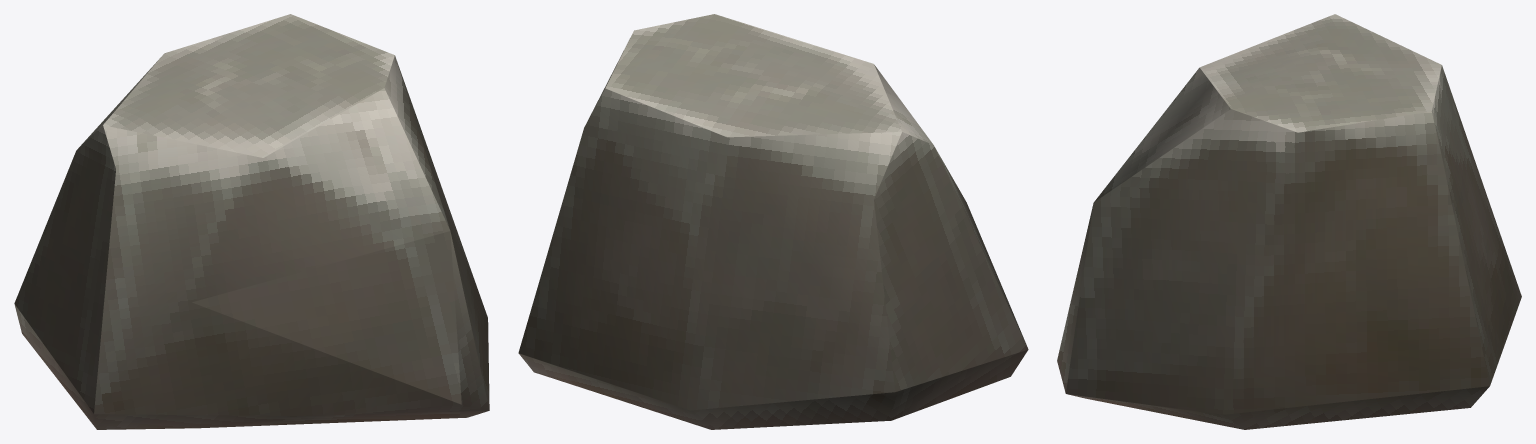
File: pedra_07.glb
3 renders of one model, left to right at view 1: azimuth 30°, elevation 25°; view 2: azimuth 150°, elevation 25°; view 3: azimuth 270°, elevation 25°, orthographic. The views are drawn at different scales.
Parts seen in each view (by area): view 1: SM_Rocks_07; view 2: SM_Rocks_07; view 3: SM_Rocks_07.
Boxes of the visible parts, <box> form: SM_Rocks_07: <box>14,14,489,429</box>; SM_Rocks_07: <box>518,14,1028,429</box>; SM_Rocks_07: <box>1057,14,1521,429</box>.
Bounding box in the file's own units: 0.5749 × 0.4096 × 0.5771.
Materials: 1 (1 with a texture image).
